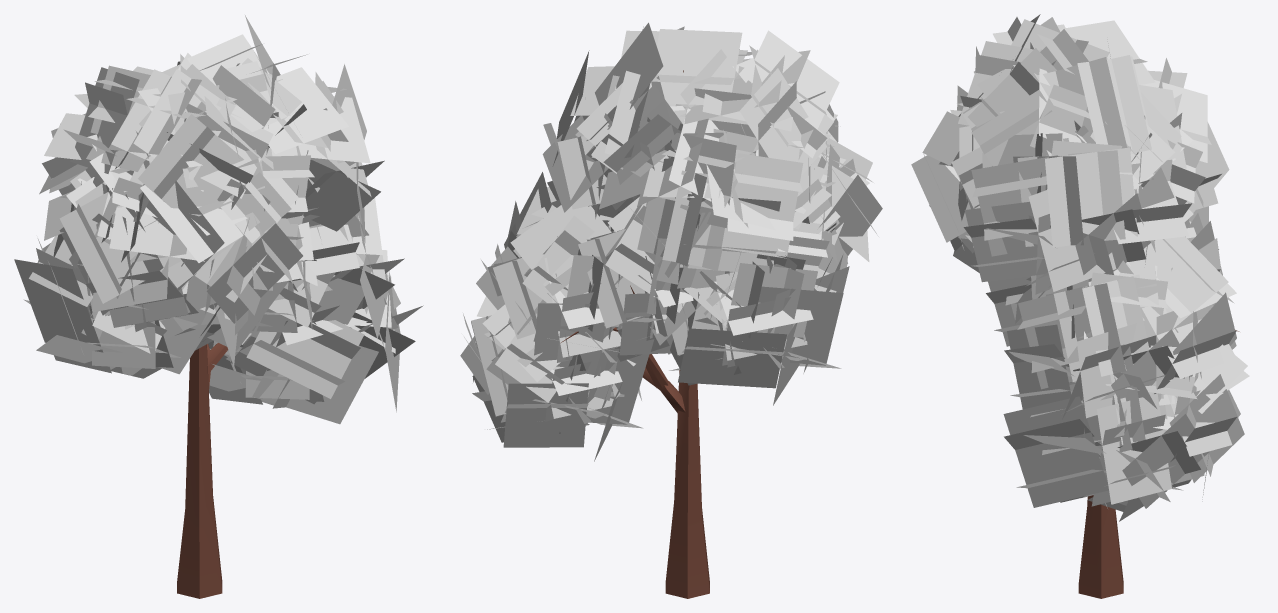
File: tree-2-test.glb
3 views of the same model, side by side, from view 1: azimuth 30°, elevation 25°; view 2: azimuth 150°, elevation 25°; view 3: azimuth 270°, elevation 25° (orthographic). The views are drawn at different scales.
Parts seen in each view (by area): view 1: leaves2, tree2; view 2: leaves2, tree2; view 3: leaves2, tree2.
Boxes of the visible parts, x1=… form: leaves2: x1=14, y1=15, x2=423, y2=424; tree2: x1=177, y1=343, x2=228, y2=598; leaves2: x1=460, y1=22, x2=882, y2=461; tree2: x1=561, y1=70, x2=709, y2=598; leaves2: x1=911, y1=14, x2=1249, y2=521; tree2: x1=1078, y1=330, x2=1239, y2=598.
Bounding box in the file's own units: 19.5 × 26.71 × 15.41.
